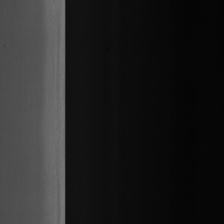inclusion: (0, 39, 8, 54)
